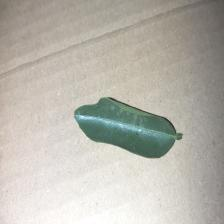healthy: (76, 90, 179, 161)
